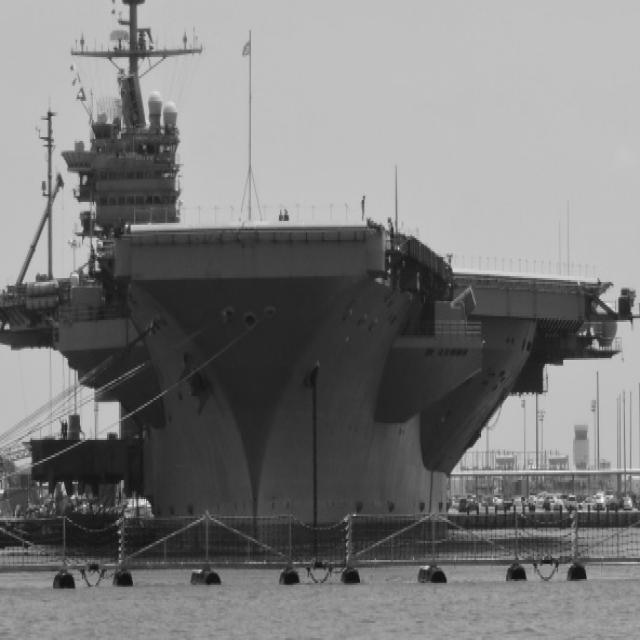Portanaves: (1, 1, 640, 559)
